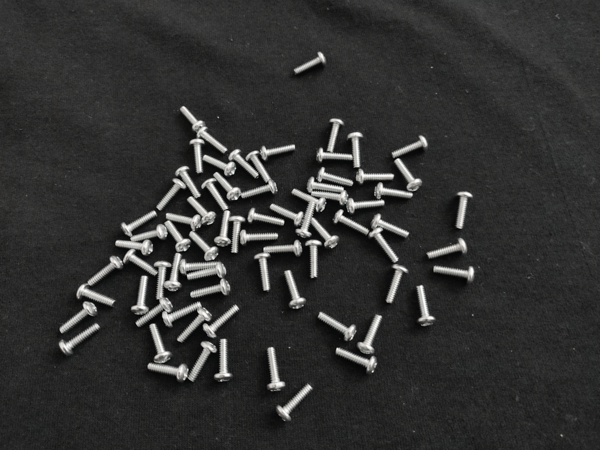shortscrew: (275, 384, 313, 423), (58, 324, 101, 358), (203, 305, 240, 341), (177, 308, 212, 344), (59, 302, 98, 334), (188, 342, 218, 383), (318, 313, 358, 343), (335, 348, 378, 375), (369, 228, 400, 265), (135, 298, 173, 328), (87, 256, 124, 286), (357, 315, 384, 356), (122, 249, 159, 278), (385, 264, 411, 305), (156, 177, 187, 211), (120, 210, 158, 237), (76, 283, 117, 307), (124, 250, 159, 278), (163, 303, 202, 328), (333, 210, 369, 237), (427, 239, 469, 262), (189, 230, 220, 261), (371, 215, 411, 239), (394, 158, 423, 191), (202, 177, 230, 211), (245, 149, 272, 184), (434, 265, 476, 287), (311, 217, 339, 250), (284, 271, 307, 311), (165, 221, 192, 255), (187, 197, 217, 227), (292, 188, 328, 213), (197, 127, 229, 155), (149, 324, 171, 364), (229, 149, 259, 178), (190, 280, 231, 301), (267, 348, 286, 393), (214, 339, 233, 384), (392, 135, 429, 158), (175, 166, 201, 198), (187, 263, 228, 283), (270, 203, 305, 226), (164, 253, 184, 293), (417, 286, 436, 328), (213, 173, 241, 201), (293, 52, 327, 75), (132, 277, 152, 316), (148, 364, 188, 383), (130, 224, 168, 243), (296, 203, 316, 239), (455, 192, 473, 231), (356, 168, 395, 186), (264, 240, 303, 258), (316, 168, 355, 186), (180, 259, 223, 275), (326, 118, 345, 154), (214, 211, 232, 249), (247, 208, 285, 226), (239, 231, 279, 248), (254, 252, 271, 292), (180, 106, 206, 132), (306, 239, 322, 281), (241, 181, 278, 199), (166, 213, 203, 231), (154, 261, 171, 300), (306, 177, 345, 194), (375, 183, 415, 199), (346, 198, 386, 214), (260, 144, 297, 161), (228, 217, 245, 254), (348, 131, 364, 169), (316, 148, 354, 164), (115, 240, 155, 255), (311, 190, 349, 205)
